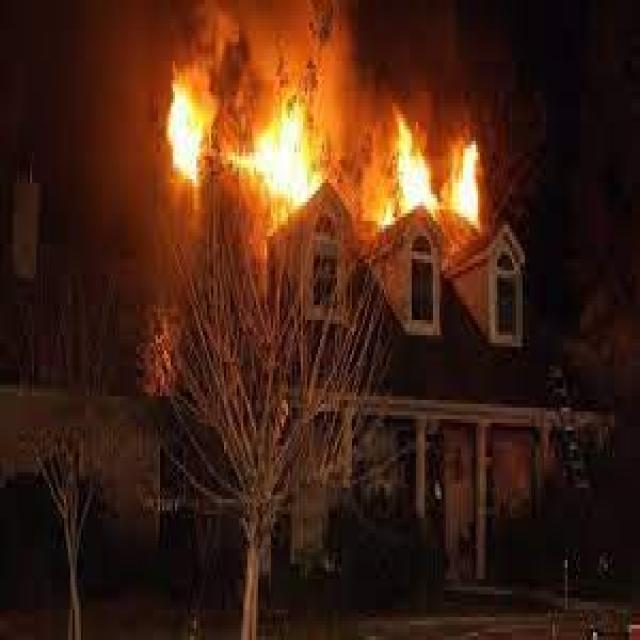Fire: (386, 132, 504, 220), (250, 128, 324, 216), (162, 84, 206, 199)
Smoke: (100, 0, 523, 118)
